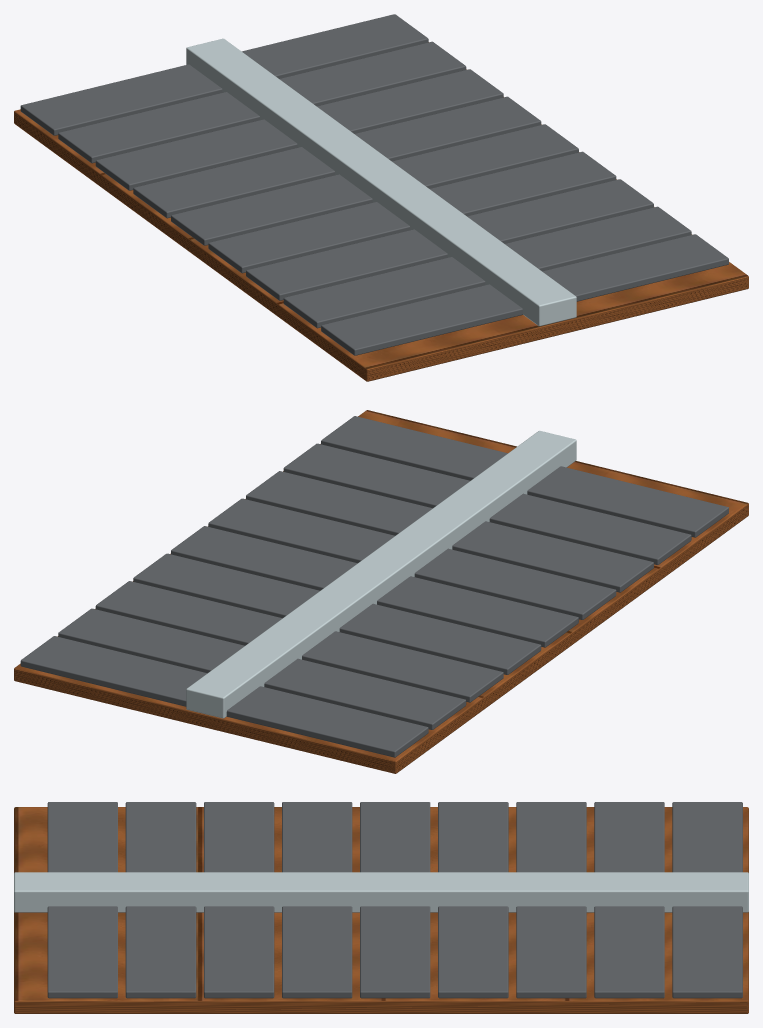
Rendered from printing-press-and-newspaper-office-roof-deck-bay-33320c48__37772.glb.
3 renders of one model, top to bottom at view 1: azimuth 30°, elevation 25°; view 2: azimuth 150°, elevation 25°; view 3: azimuth 270°, elevation 25°, orthographic. The views are drawn at different scales.
Visible parts, largest first — view 1: roof-deck-bay; view 2: roof-deck-bay; view 3: roof-deck-bay.
Part boxes in pixels (x1,y1,x2,y2): roof-deck-bay: [14, 14, 748, 381]; roof-deck-bay: [14, 410, 748, 773]; roof-deck-bay: [14, 802, 748, 1013].
Bounding box in the file's own units: 3 × 0.2601 × 4.8.
Materials: 3 (1 with a texture image).
